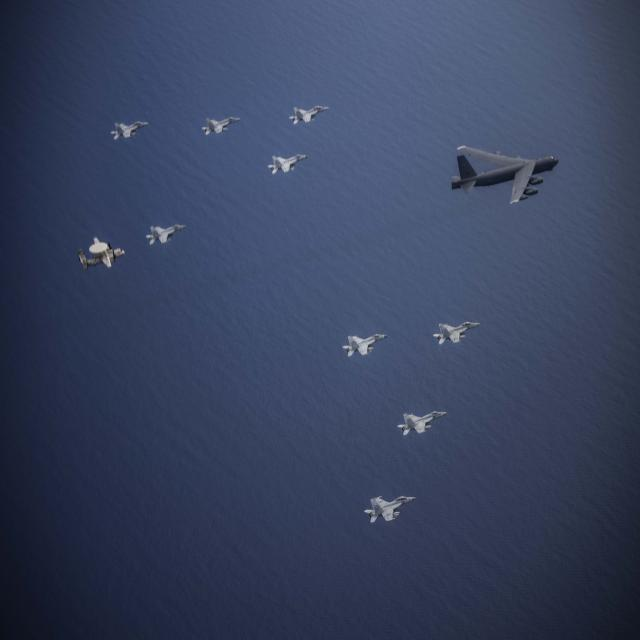MIL_Plane: (450, 145, 559, 205), (78, 186, 125, 220), (364, 496, 416, 523), (397, 411, 447, 435), (433, 321, 480, 345), (342, 333, 388, 357), (267, 154, 309, 175), (146, 224, 187, 245), (289, 105, 329, 125), (202, 116, 240, 136), (110, 121, 149, 140)
